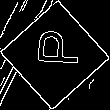P_W: (29, 35, 81, 75)
